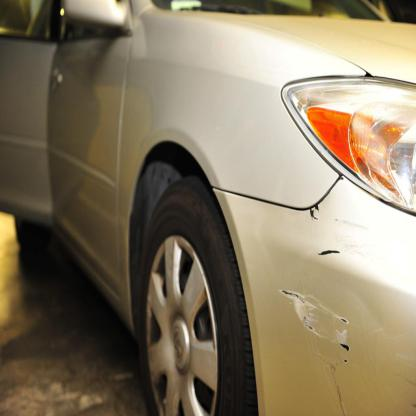door: (46, 38, 134, 302)
front_bumper: (214, 171, 414, 415)
headlamp: (279, 79, 414, 215)
hood: (214, 17, 414, 83)
